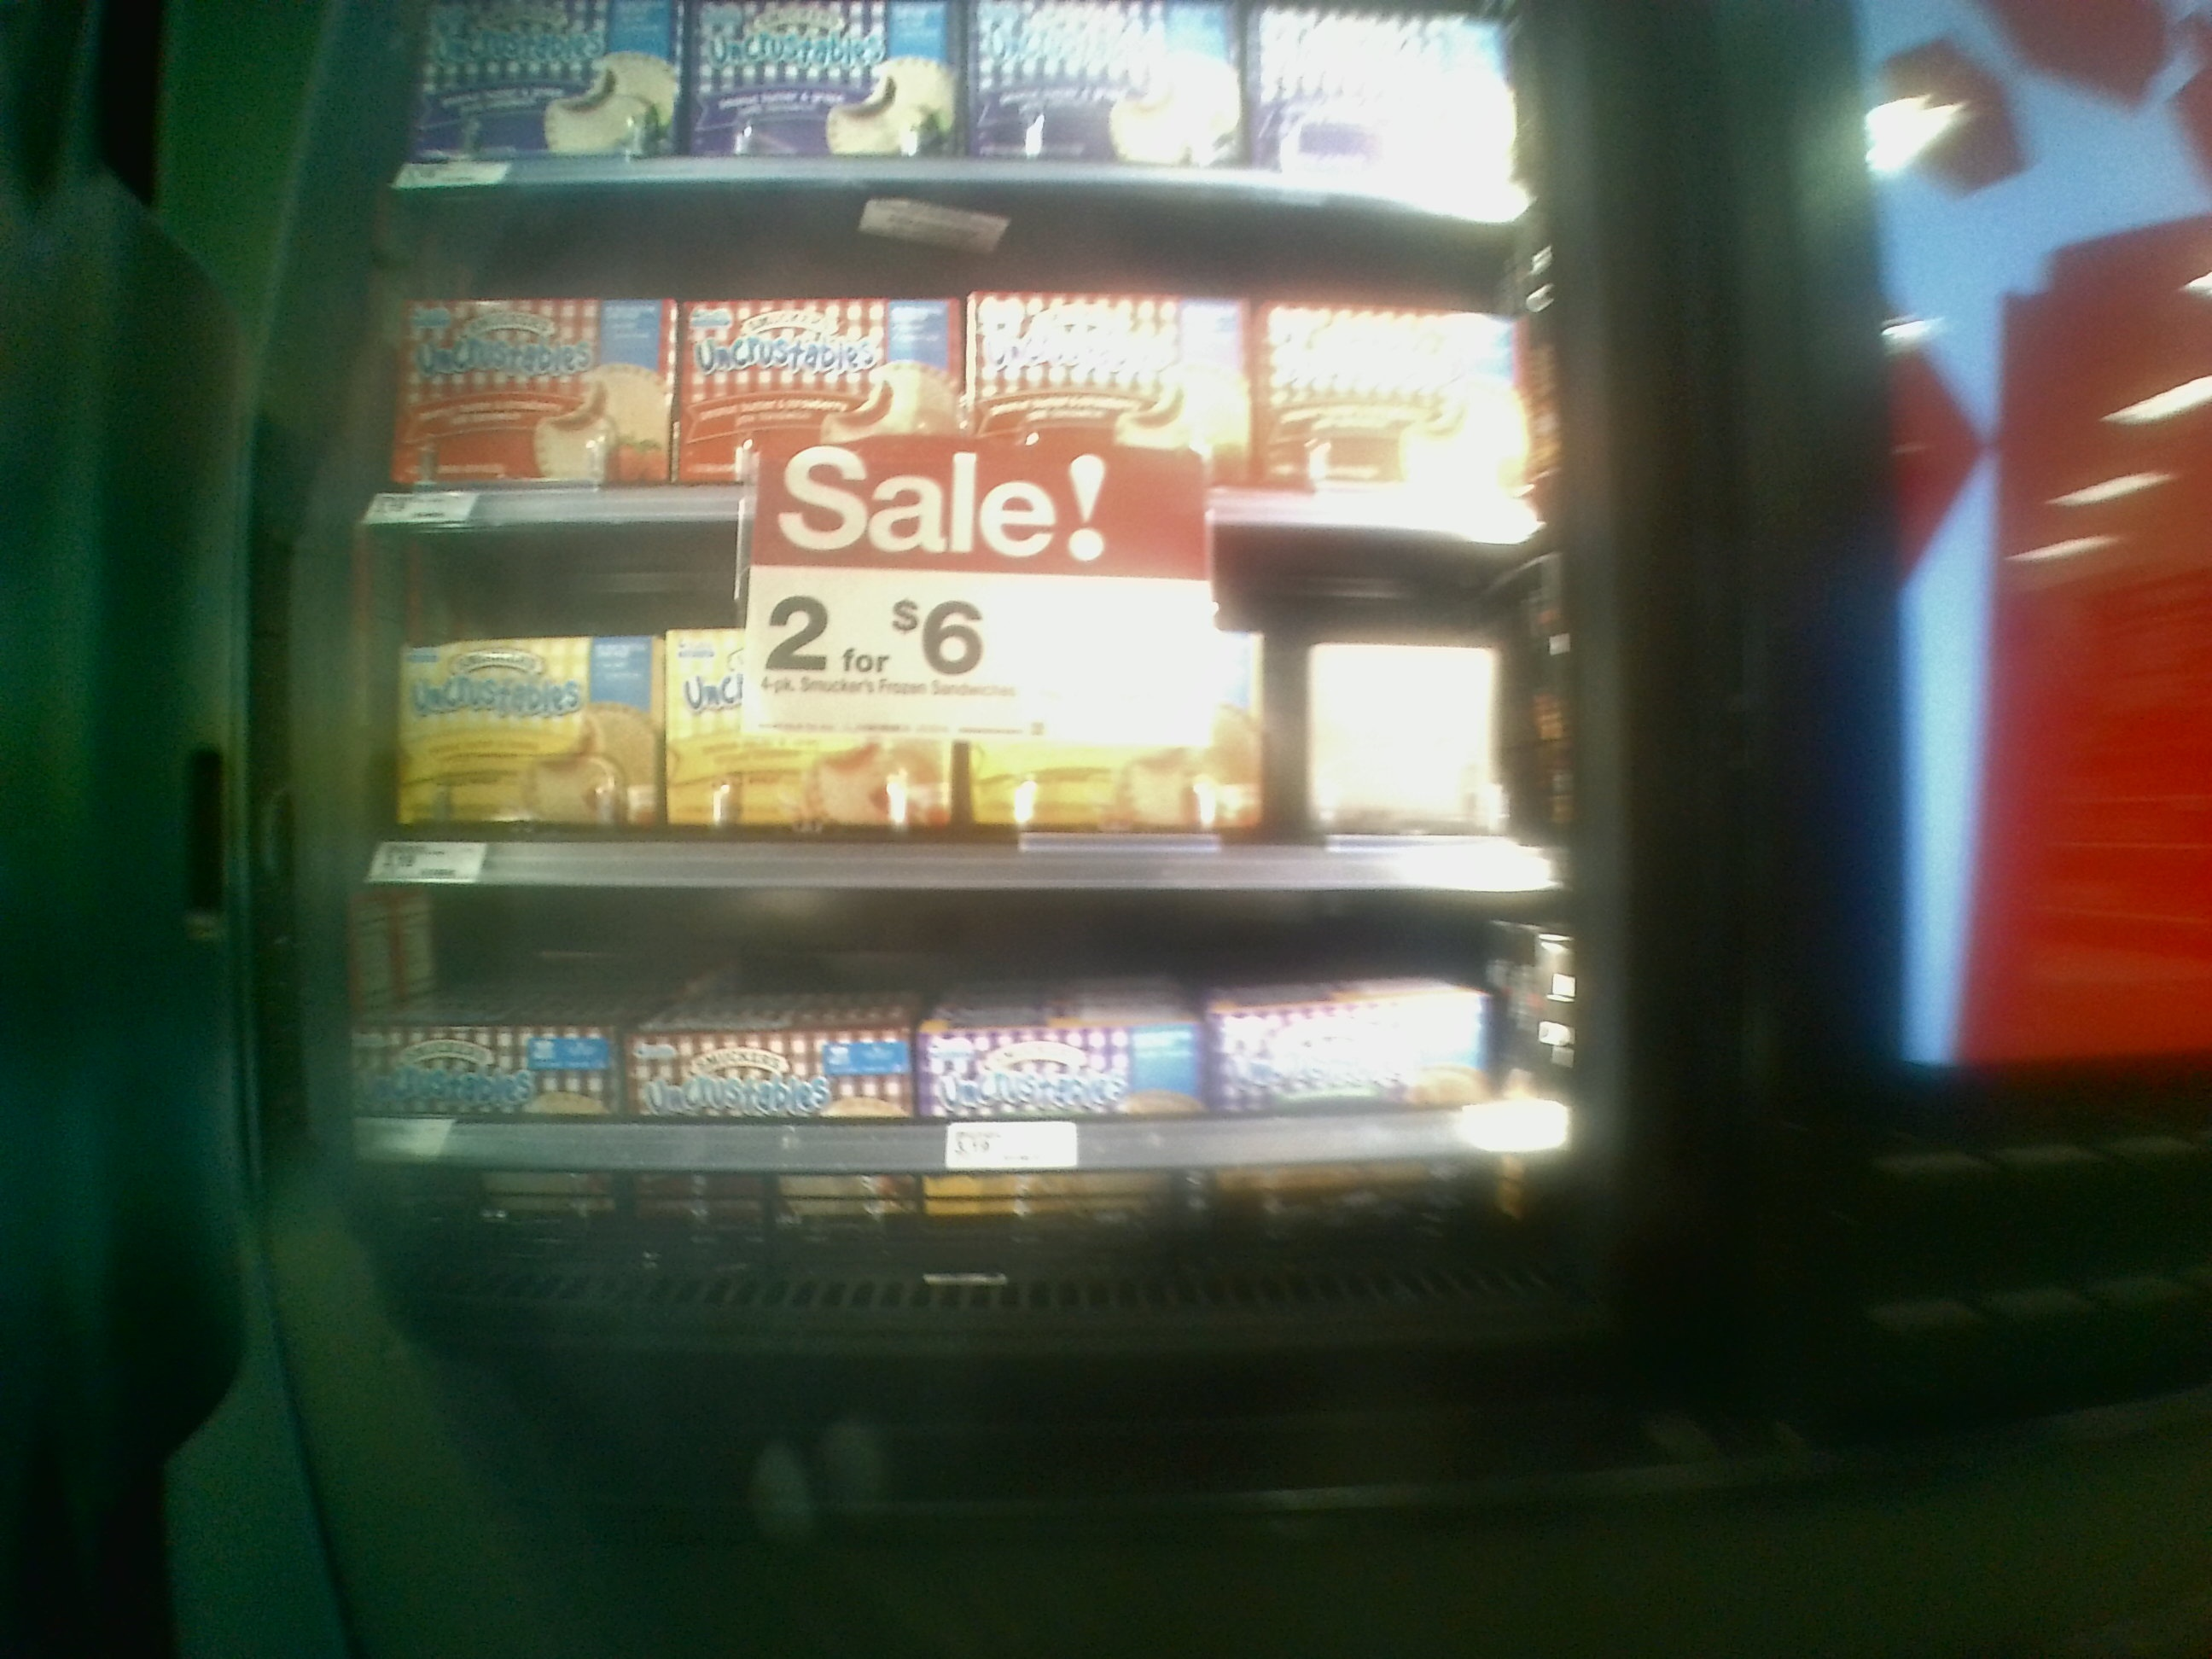shelf: (312, 859, 1576, 1316), (334, 525, 1554, 884), (354, 178, 1540, 545)
